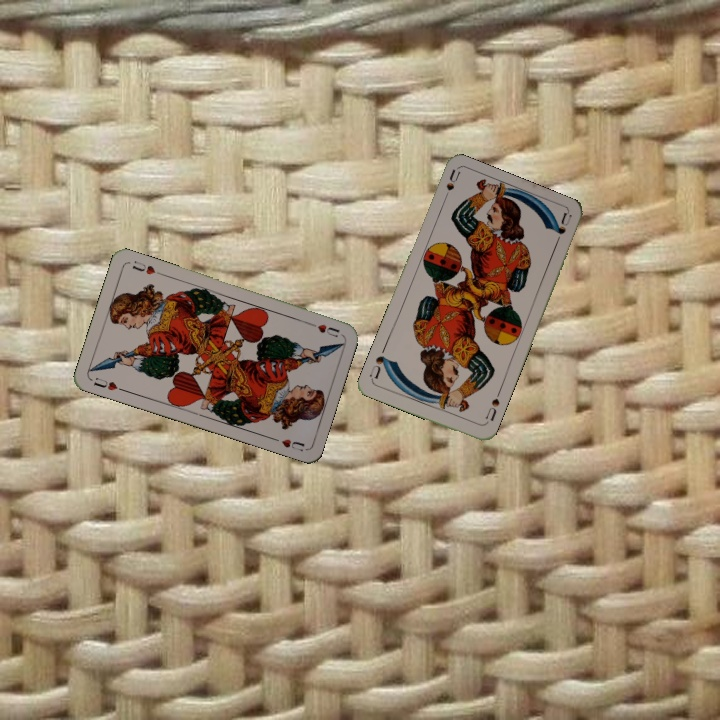HU: (304, 319, 342, 340), (90, 373, 127, 394)
SU: (438, 166, 462, 206), (481, 394, 502, 427)
